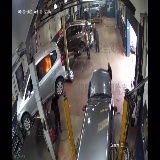fire: (43, 54, 53, 75)
